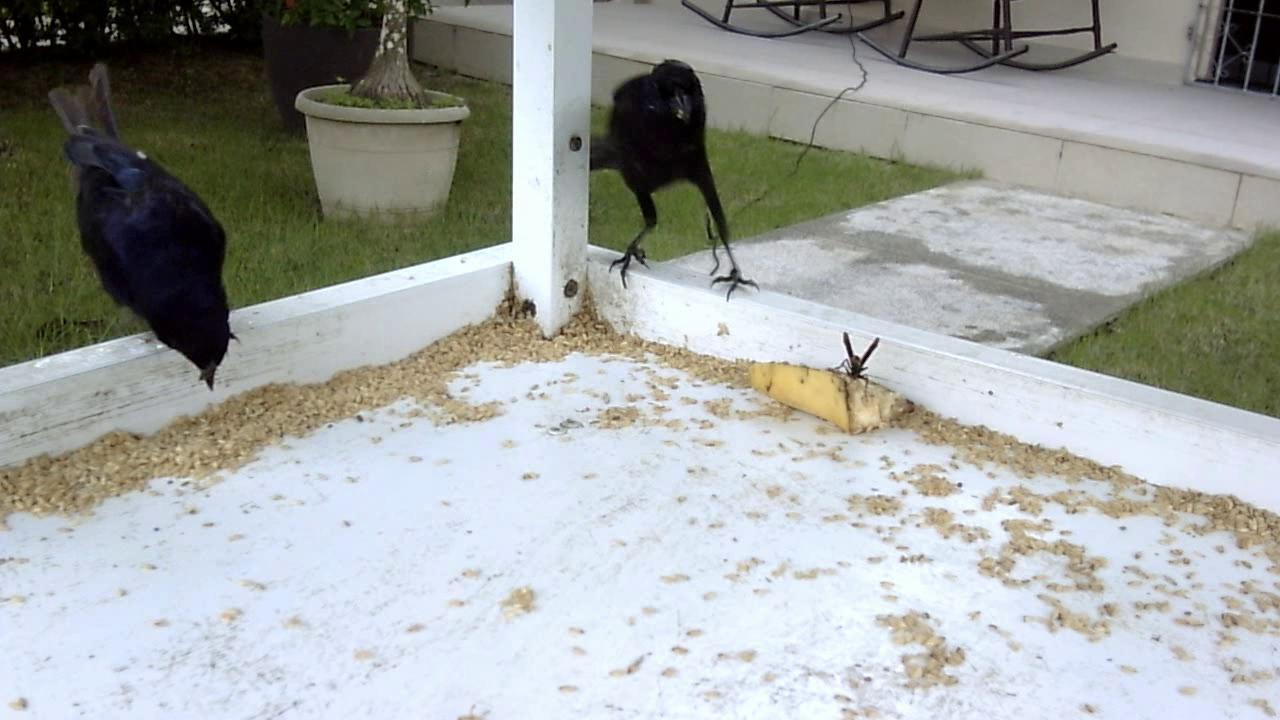chupim: (45, 67, 252, 403), (587, 55, 761, 310)
